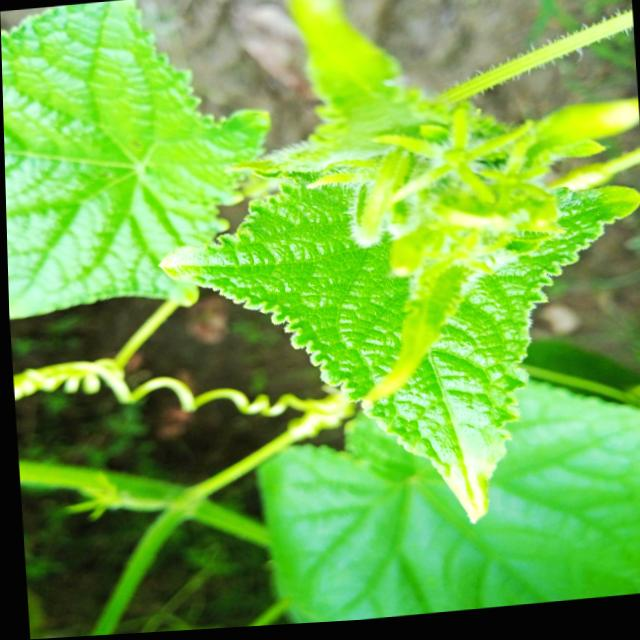Fresh-Leaf: (157, 174, 640, 527), (1, 0, 273, 318)
